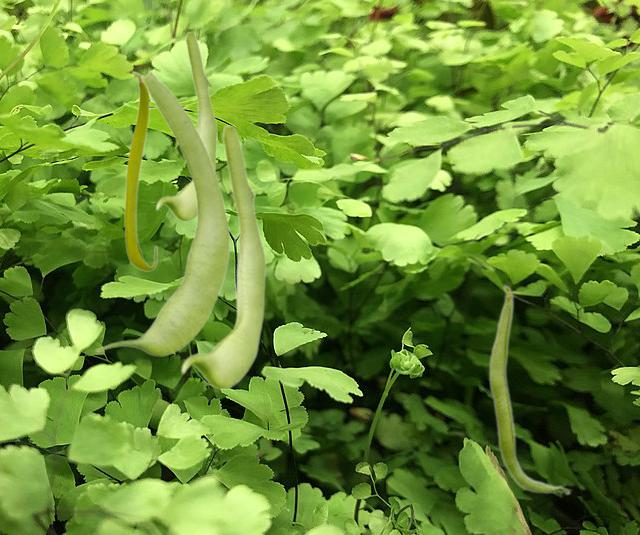french_bean: (94, 69, 230, 355), (180, 123, 265, 388), (487, 283, 571, 495), (155, 30, 216, 220), (123, 70, 157, 271)
